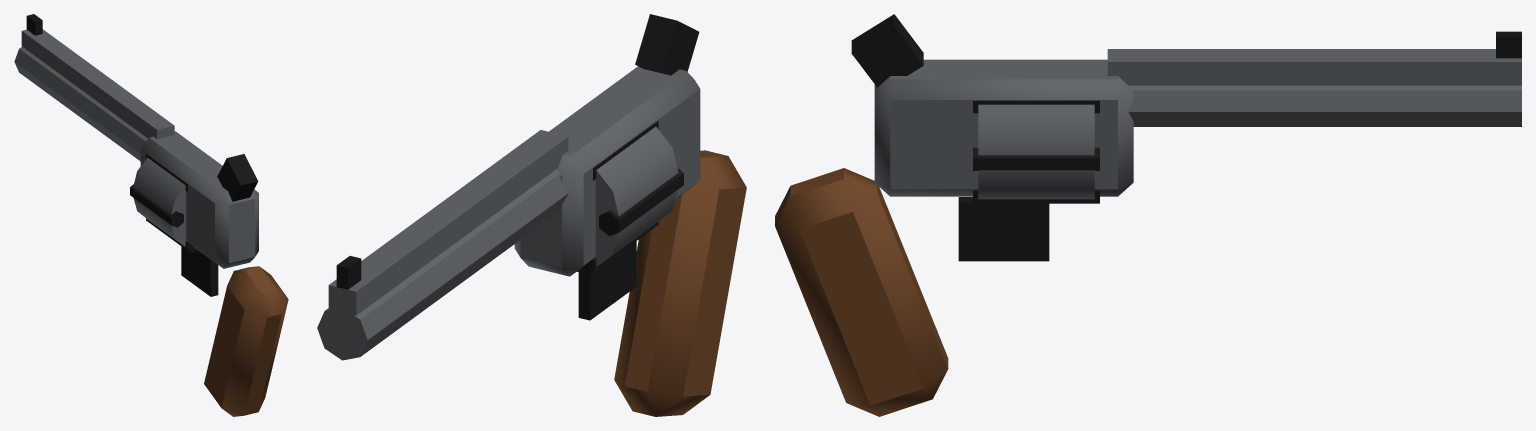
The model's file is revolver.glb.
3 views of the same model, side by side, from view 1: azimuth 30°, elevation 25°; view 2: azimuth 150°, elevation 25°; view 3: azimuth 270°, elevation 25° (orthographic). The views are drawn at different scales.
Visible parts, largest first — view 1: revolver__Body; view 2: revolver__Body; view 3: revolver__Body.
Boxes of the visible parts, bbox=[...] form: revolver__Body: bbox=[14, 14, 288, 416]; revolver__Body: bbox=[317, 14, 746, 416]; revolver__Body: bbox=[775, 14, 1521, 416].
Size of the model in its own units: 0.0527 by 0.1666 by 0.2884.
